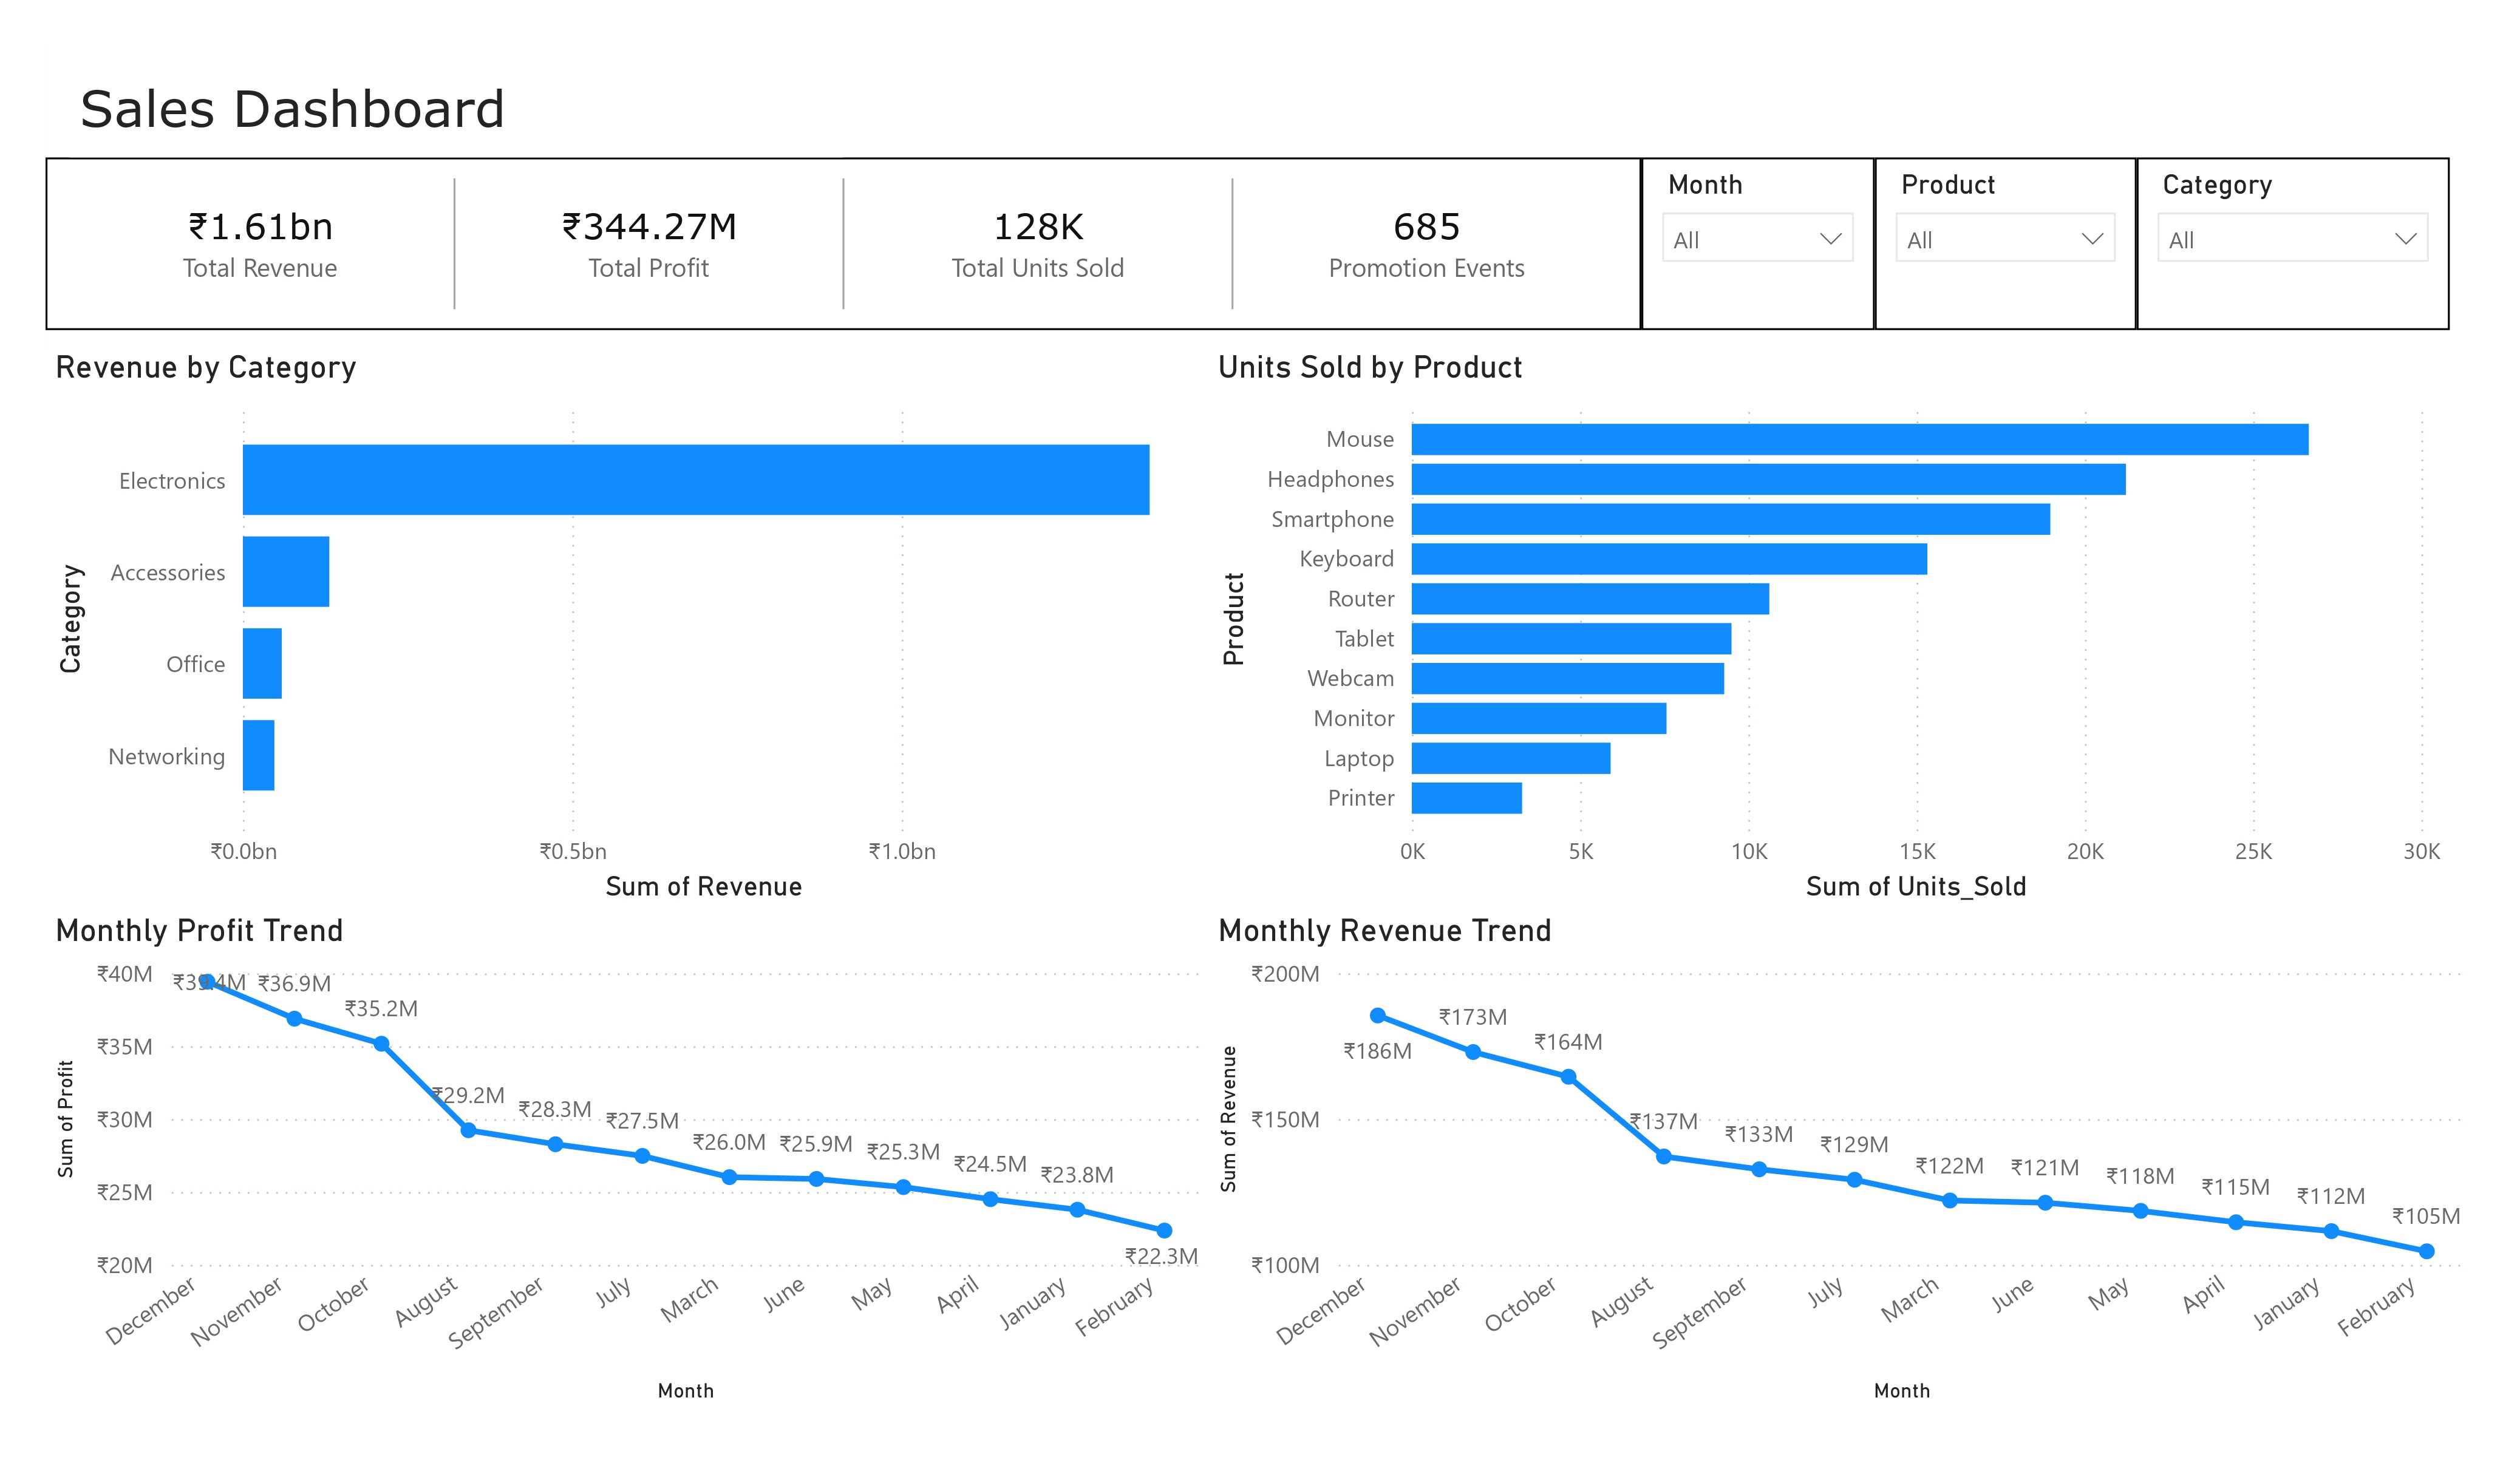

Layout of this report page (visuals, bound fields, positions):
{"tool":"powerbi","page":{"name":"Sales Dashobard","canvas":[1280,720],"ordinal":1},"visuals":[{"type":"cardVisual","fields":{"Data":["Sum(monthly_sales_dashboard.Revenue)","Sum(monthly_sales_dashboard.Profit)","Sum(monthly_sales_dashboard.Units_Sold)","Sum(monthly_sales_dashboard.Promotion_Days)"]},"box":[0,59.4,840.6,90.6],"z":0},{"type":"lineChart","title":"Monthly Revenue Trend","fields":{"Category":["monthly_sales_dashboard.Month"],"Y":["Sum(monthly_sales_dashboard.Revenue)"]},"box":[612.5,456.2,667.2,264.1],"z":1000},{"type":"lineChart","title":"Monthly Profit Trend","fields":{"Category":["monthly_sales_dashboard.Month"],"Y":["Sum(monthly_sales_dashboard.Profit)"]},"box":[0,456.2,612.5,264.1],"z":2000},{"type":"clusteredBarChart","title":"Units Sold by Product","fields":{"Category":["monthly_sales_dashboard.Product"],"Y":["Sum(monthly_sales_dashboard.Units_Sold)"]},"box":[612.5,159.4,654.7,296.9],"z":3000},{"type":"clusteredBarChart","title":"Revenue by Category","fields":{"Category":["monthly_sales_dashboard.Category"],"Y":["Sum(monthly_sales_dashboard.Revenue)"]},"box":[0,159.4,612.5,296.9],"z":4000},{"type":"slicer","fields":{"Values":["monthly_sales_dashboard.Month"]},"box":[840.6,59.4,123.4,90.6],"z":5000},{"type":"slicer","fields":{"Values":["monthly_sales_dashboard.Product"]},"box":[964.1,59.4,137.5,90.6],"z":6000},{"type":"slicer","fields":{"Values":["monthly_sales_dashboard.Category"]},"box":[1101.6,59.4,165.6,90.6],"z":7000},{"type":"textbox","box":[12.5,10.9,407.8,48.4],"z":8000}]}

Visuals, with their boxes on the page's 1280x720 design canvas (x1, y1, x2, y2). These are canvas units, not pixel positions in the 2520x1457 screenshot, which may show the page scaled, cropped or inside an application window:
cardVisual - Sum(monthly_sales_dashboard.Revenue) x Sum(monthly_sales_dashboard.Profit): [left=0, top=59, right=841, bottom=150]
"Monthly Revenue Trend" lineChart: [left=612, top=456, right=1280, bottom=720]
"Monthly Profit Trend" lineChart: [left=0, top=456, right=612, bottom=720]
"Units Sold by Product" clusteredBarChart: [left=612, top=159, right=1267, bottom=456]
"Revenue by Category" clusteredBarChart: [left=0, top=159, right=612, bottom=456]
slicer - monthly_sales_dashboard.Month: [left=841, top=59, right=964, bottom=150]
slicer - monthly_sales_dashboard.Product: [left=964, top=59, right=1102, bottom=150]
slicer - monthly_sales_dashboard.Category: [left=1102, top=59, right=1267, bottom=150]
textbox: [left=12, top=11, right=420, bottom=59]
